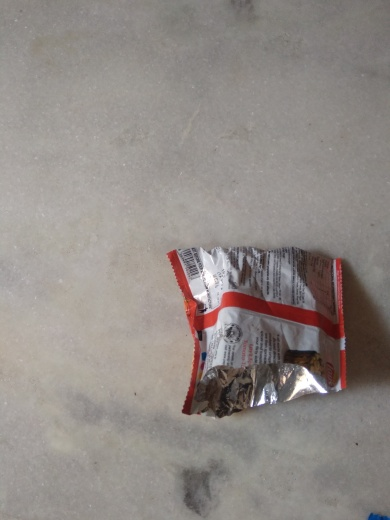lays: (156, 235, 367, 427)
